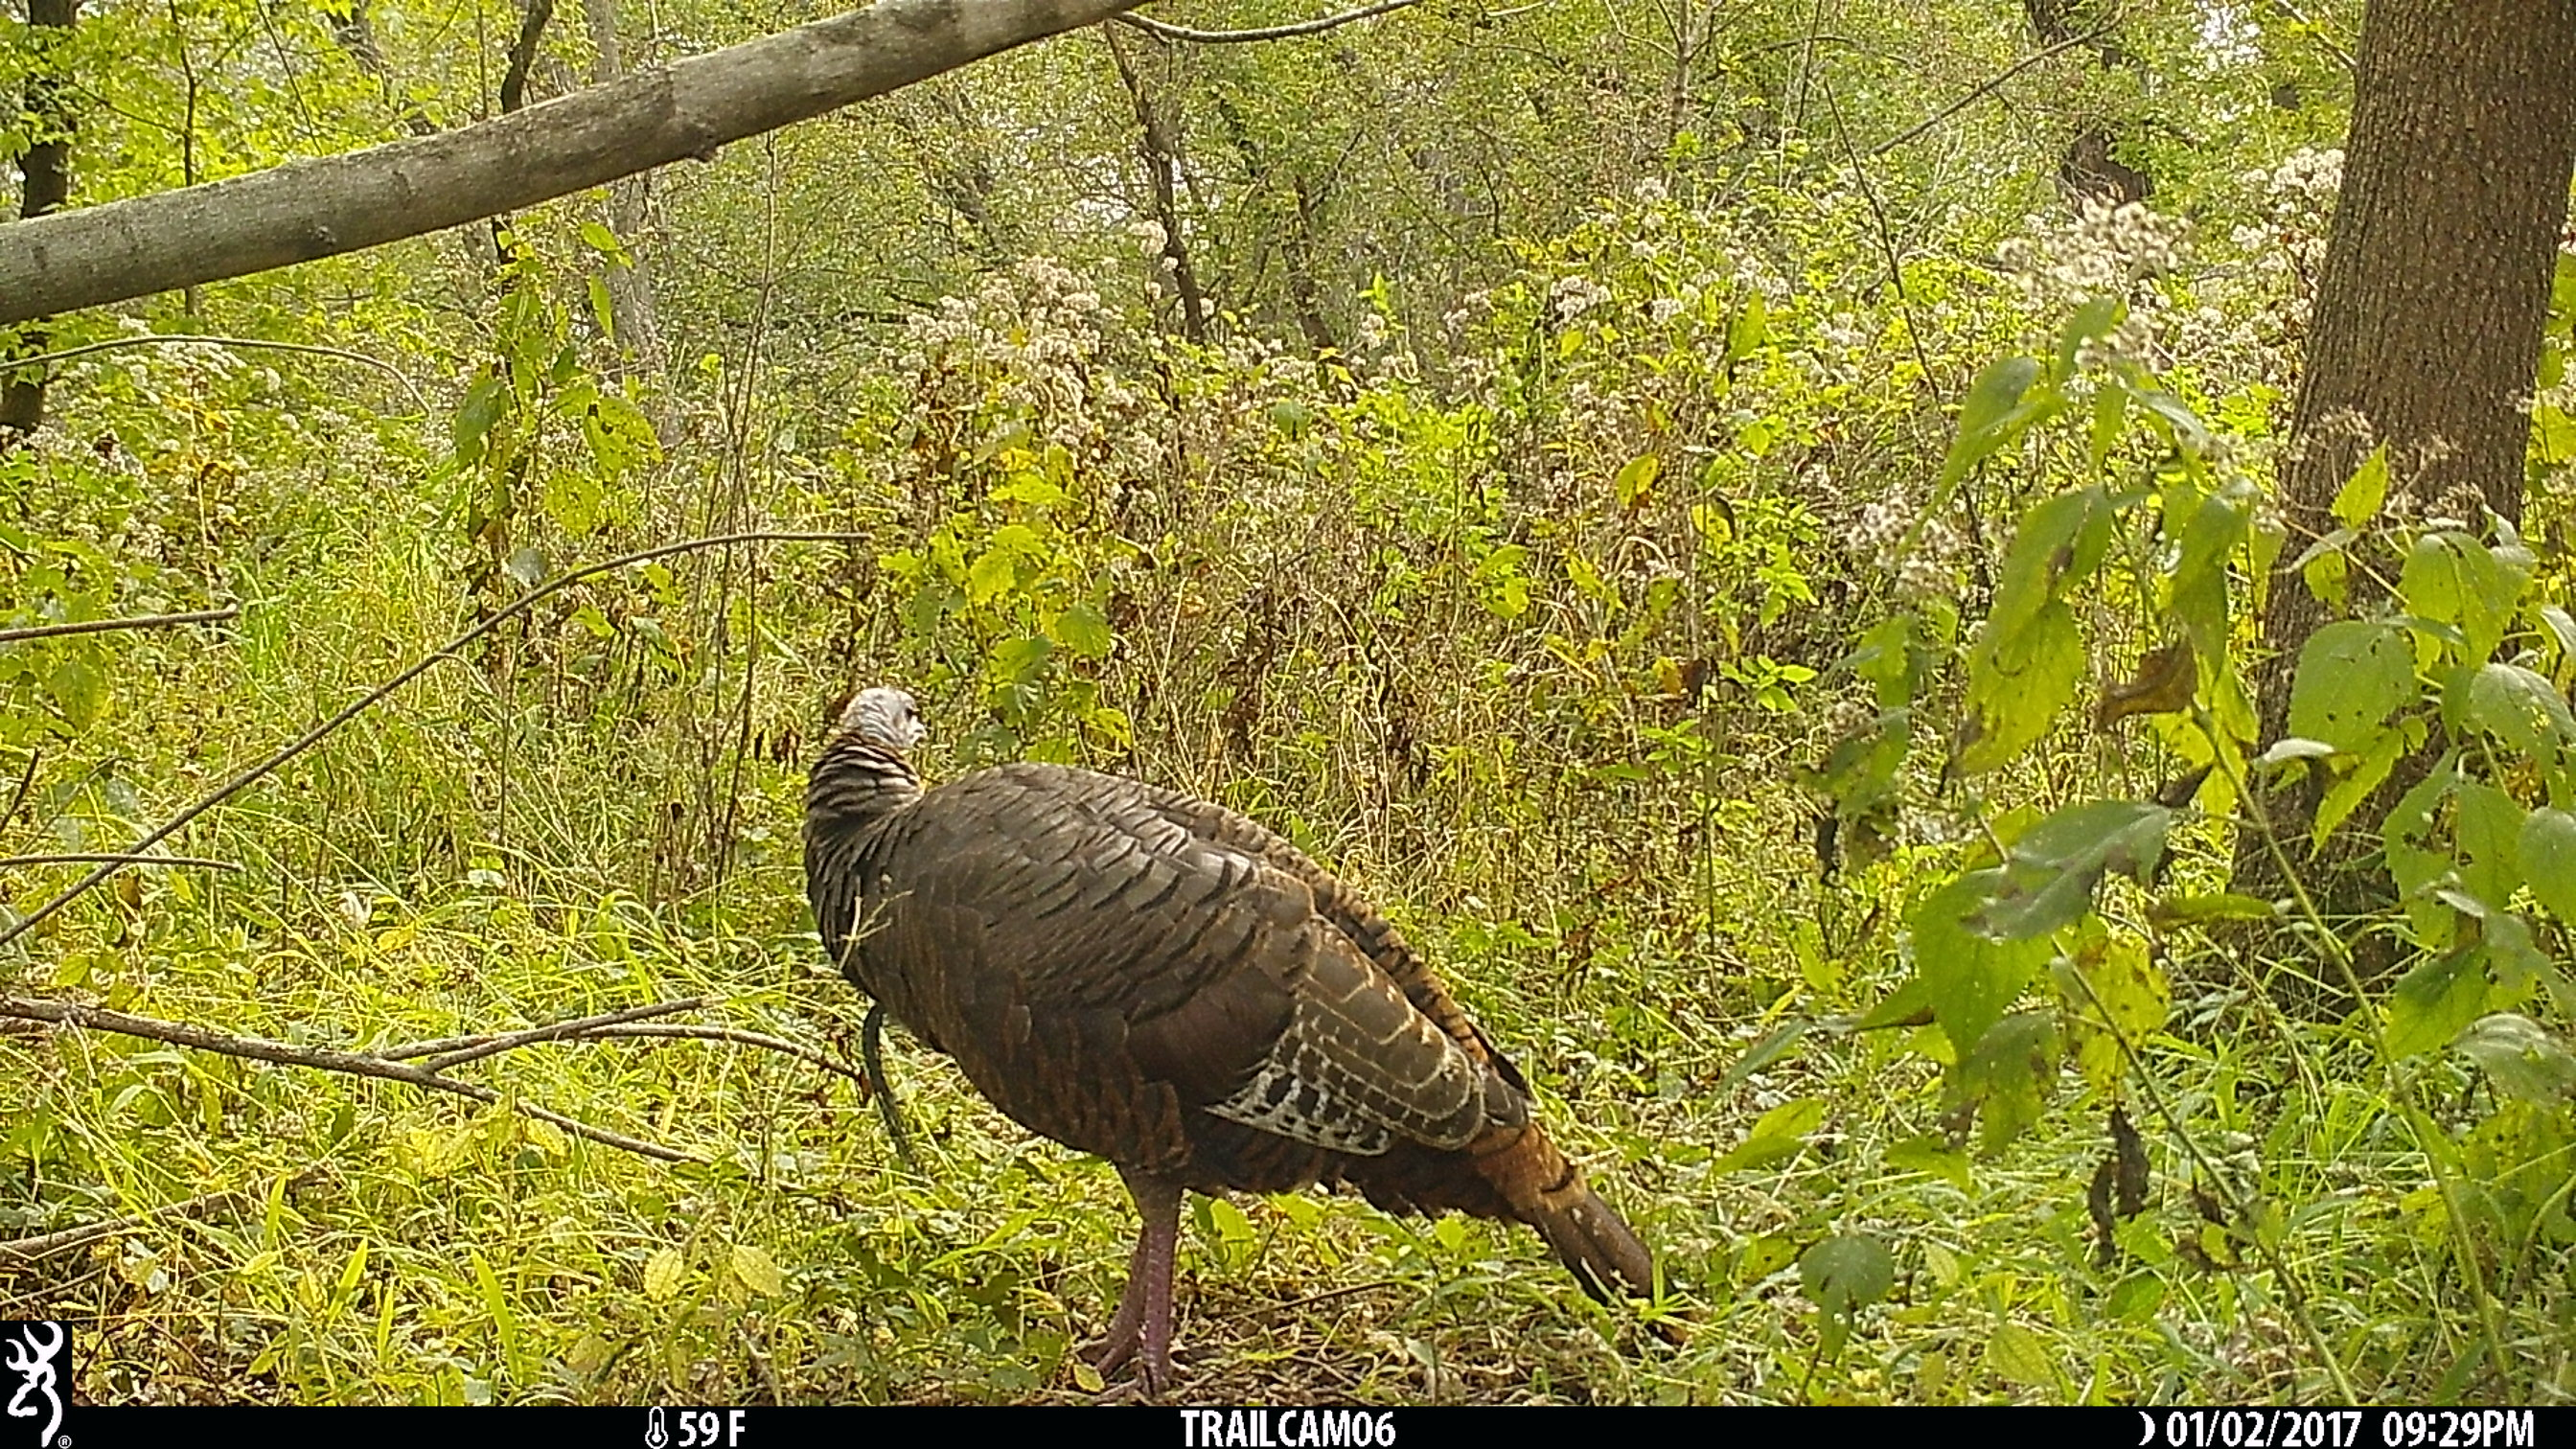Turkey: (798, 683, 1677, 1307)
